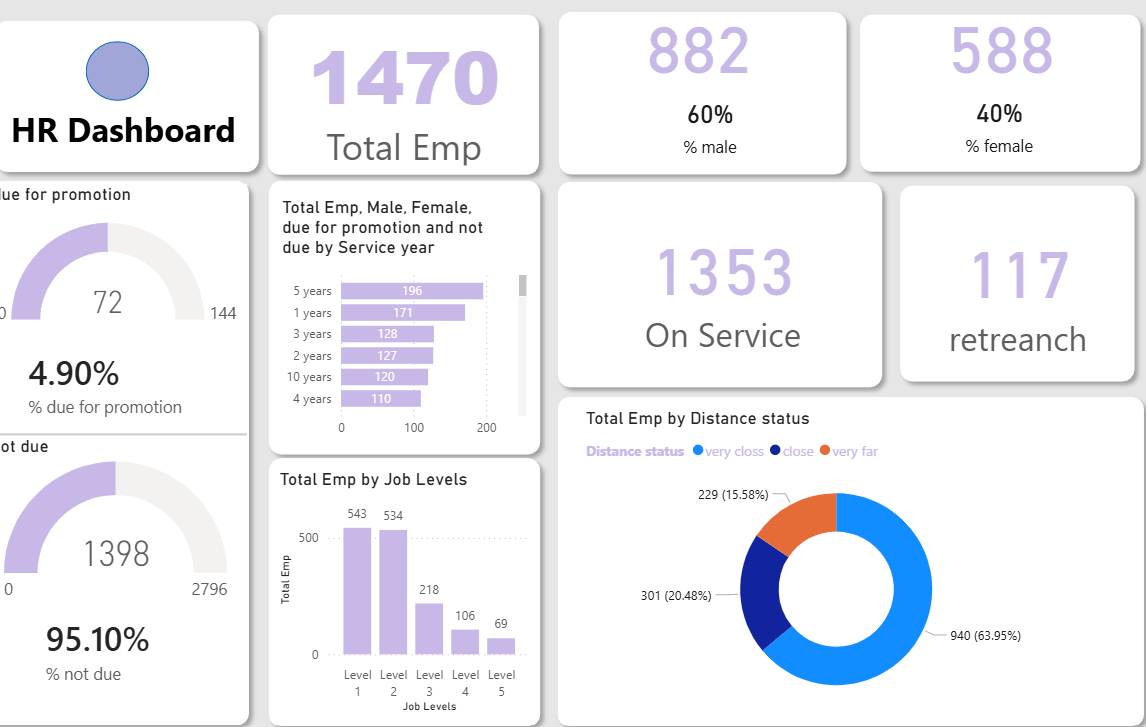

This screenshot's page, from the dashboard's own definition file:
{"tool":"powerbi","page":{"name":"Page 1","canvas":[1280,720],"ordinal":0},"visuals":[{"type":"shape","box":[0,0,143.8,720],"z":0},{"type":"shape","box":[153.2,20.5,272.7,164.1],"z":1000},{"type":"shape","box":[415.7,14.3,280,172.9],"z":2000},{"type":"shape","box":[697.3,12.1,295.6,174.9],"z":3000},{"type":"shape","box":[988.6,14.3,288.6,170],"z":4000},{"type":"shape","box":[143.6,174.9,272.7,544.1],"z":5000},{"type":"shape","box":[417.4,174.9,279.9,282.3],"z":6000},{"type":"shape","box":[417.4,442.8,279.9,277.5],"z":7000},{"type":"shape","box":[696.2,176.2,331.2,216.2],"z":8000},{"type":"shape","box":[1027.1,180,244.3,207.1],"z":9000},{"type":"shape","box":[696.1,383.6,583.9,336.6],"z":10000},{"type":"textbox","box":[165.3,107.4,241.3,59.1],"z":11000},{"type":"shape","box":[250,50,61.2,57.5],"z":12000},{"type":"actionButton","box":[0,0,100,40],"z":13000},{"type":"card","fields":{"Values":["All Measure.Total Emp"]},"box":[434.3,30,245.7,144.3],"z":14000},{"type":"card","fields":{"Values":["All Measure.Male"]},"box":[751.4,30,180,81.4],"z":15000},{"type":"card","fields":{"Values":["All Measure.Female"]},"box":[1044.3,30,175.7,81.4],"z":16000},{"type":"card","fields":{"Values":["All Measure.% female"]},"box":[1058.6,88.6,147.1,81.4],"z":17000},{"type":"card","fields":{"Values":["All Measure.% male"]},"box":[751.4,82.9,201.4,92.9],"z":18000},{"type":"gauge","fields":{"Y":["All Measure.due for promotion"]},"box":[154.4,187,250.9,153.2],"z":19000},{"type":"cardVisual","fields":{"Data":["All Measure.% due for promotion"]},"box":[165.3,319.7,225.6,120.6],"z":20000},{"type":"gauge","fields":{"Y":["All Measure.not due"]},"box":[153.2,429.5,250.9,170.1],"z":21000},{"type":"cardVisual","fields":{"Data":["All Measure.% not due"]},"box":[182.2,581.5,165.3,111],"z":22000},{"type":"shape","box":[153.2,278.7,252.1,300.4],"z":23000},{"type":"clusteredBarChart","fields":{"Category":["HR_Analytics_Data_clean.Service year"],"Y":["All Measure.Total Emp"]},"box":[434.3,199.1,246.1,241.3],"z":24000},{"type":"columnChart","fields":{"Category":["HR_Analytics_Data_clean.Job Levels"],"Y":["All Measure.Total Emp"]},"box":[431.9,462.1,252.1,240.1],"z":25000},{"type":"card","fields":{"Values":["All Measure.On Service"]},"box":[776.9,209.9,176.1,149.6],"z":26000},{"type":"card","fields":{"Values":["All Measure.retreanch"]},"box":[1061.7,219.6,176.1,137.5],"z":27000},{"type":"donutChart","fields":{"Category":["HR_Analytics_Data_clean.Distance status"],"Y":["All Measure.Total Emp"]},"box":[727.5,403,493.4,300.4],"z":28000}]}

Visuals, with their boxes on the page's 1280x720 design canvas (x1, y1, x2, y2). These are canvas units, not pixel positions in the 1146x727 screenshot, which may show the page scaled, cropped or inside an application window:
shape: 0 0 144 720
shape: 153 20 426 185
shape: 416 14 696 187
shape: 697 12 993 187
shape: 989 14 1277 184
shape: 144 175 416 719
shape: 417 175 697 457
shape: 417 443 697 720
shape: 696 176 1027 392
shape: 1027 180 1271 387
shape: 696 384 1280 720
textbox: 165 107 407 166
shape: 250 50 311 108
actionButton: 0 0 100 40
card - All Measure.Total Emp: 434 30 680 174
card - All Measure.Male: 751 30 931 111
card - All Measure.Female: 1044 30 1220 111
card - All Measure.% female: 1059 89 1206 170
card - All Measure.% male: 751 83 953 176
gauge - All Measure.due for promotion: 154 187 405 340
cardVisual - All Measure.% due for promotion: 165 320 391 440
gauge - All Measure.not due: 153 430 404 600
cardVisual - All Measure.% not due: 182 582 348 692
shape: 153 279 405 579
clusteredBarChart - HR_Analytics_Data_clean.Service year x All Measure.Total Emp: 434 199 680 440
columnChart - HR_Analytics_Data_clean.Job Levels x All Measure.Total Emp: 432 462 684 702
card - All Measure.On Service: 777 210 953 360
card - All Measure.retreanch: 1062 220 1238 357
donutChart - HR_Analytics_Data_clean.Distance status x All Measure.Total Emp: 728 403 1221 703
